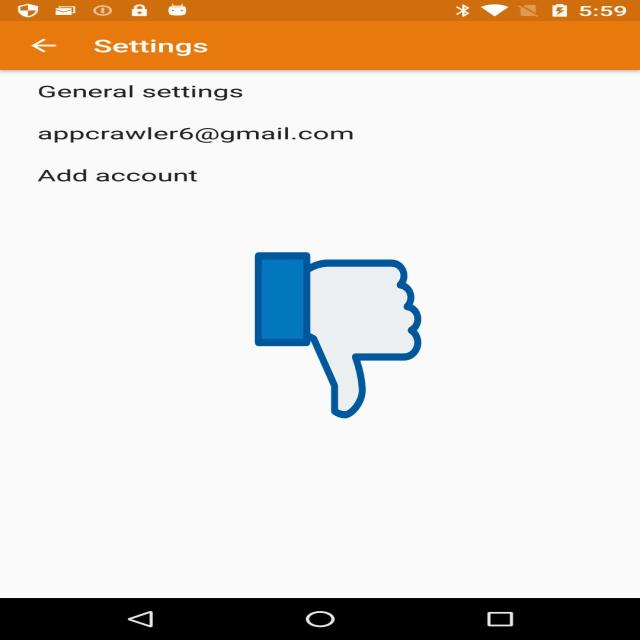obstruction: (255, 249, 421, 422)
